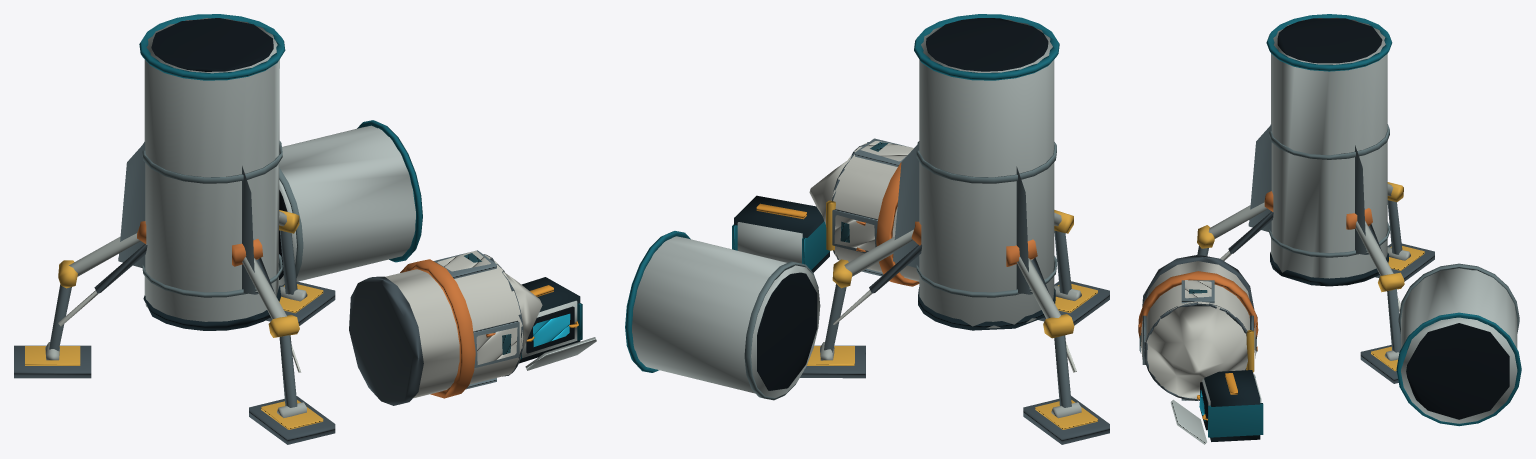
Rendered from sh02_salvage_layout_stage1_lod2.glb.
3 views of the same model, side by side, from view 1: azimuth 30°, elevation 25°; view 2: azimuth 150°, elevation 25°; view 3: azimuth 270°, elevation 25° (orthographic). The views are drawn at different scales.
Visible parts, largest first — view 1: SH02_SALVAGE_DISTANCE_GEOMETRY; view 2: SH02_SALVAGE_DISTANCE_GEOMETRY; view 3: SH02_SALVAGE_DISTANCE_GEOMETRY.
Boxes of the visible parts, bbox=[...] form: SH02_SALVAGE_DISTANCE_GEOMETRY: bbox=[14, 14, 596, 444]; SH02_SALVAGE_DISTANCE_GEOMETRY: bbox=[625, 14, 1109, 444]; SH02_SALVAGE_DISTANCE_GEOMETRY: bbox=[1138, 14, 1521, 444].
Size of the model in its own units: 15.66 by 10.7 by 13.16.
